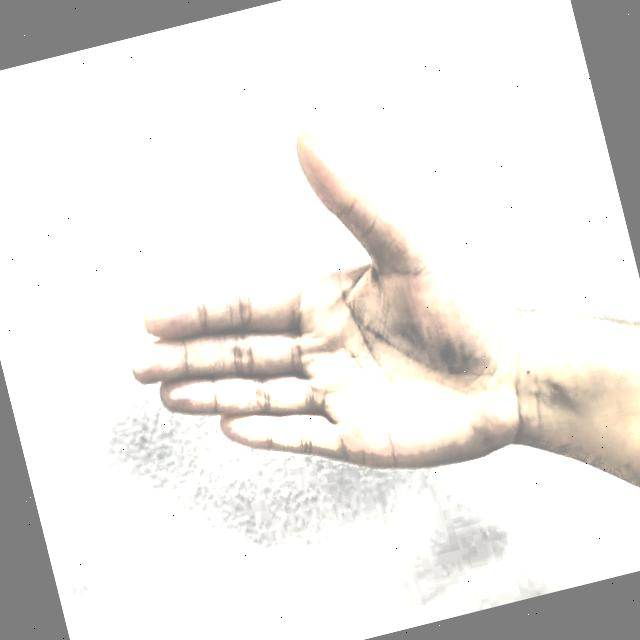Aa: (62, 76, 535, 564)
